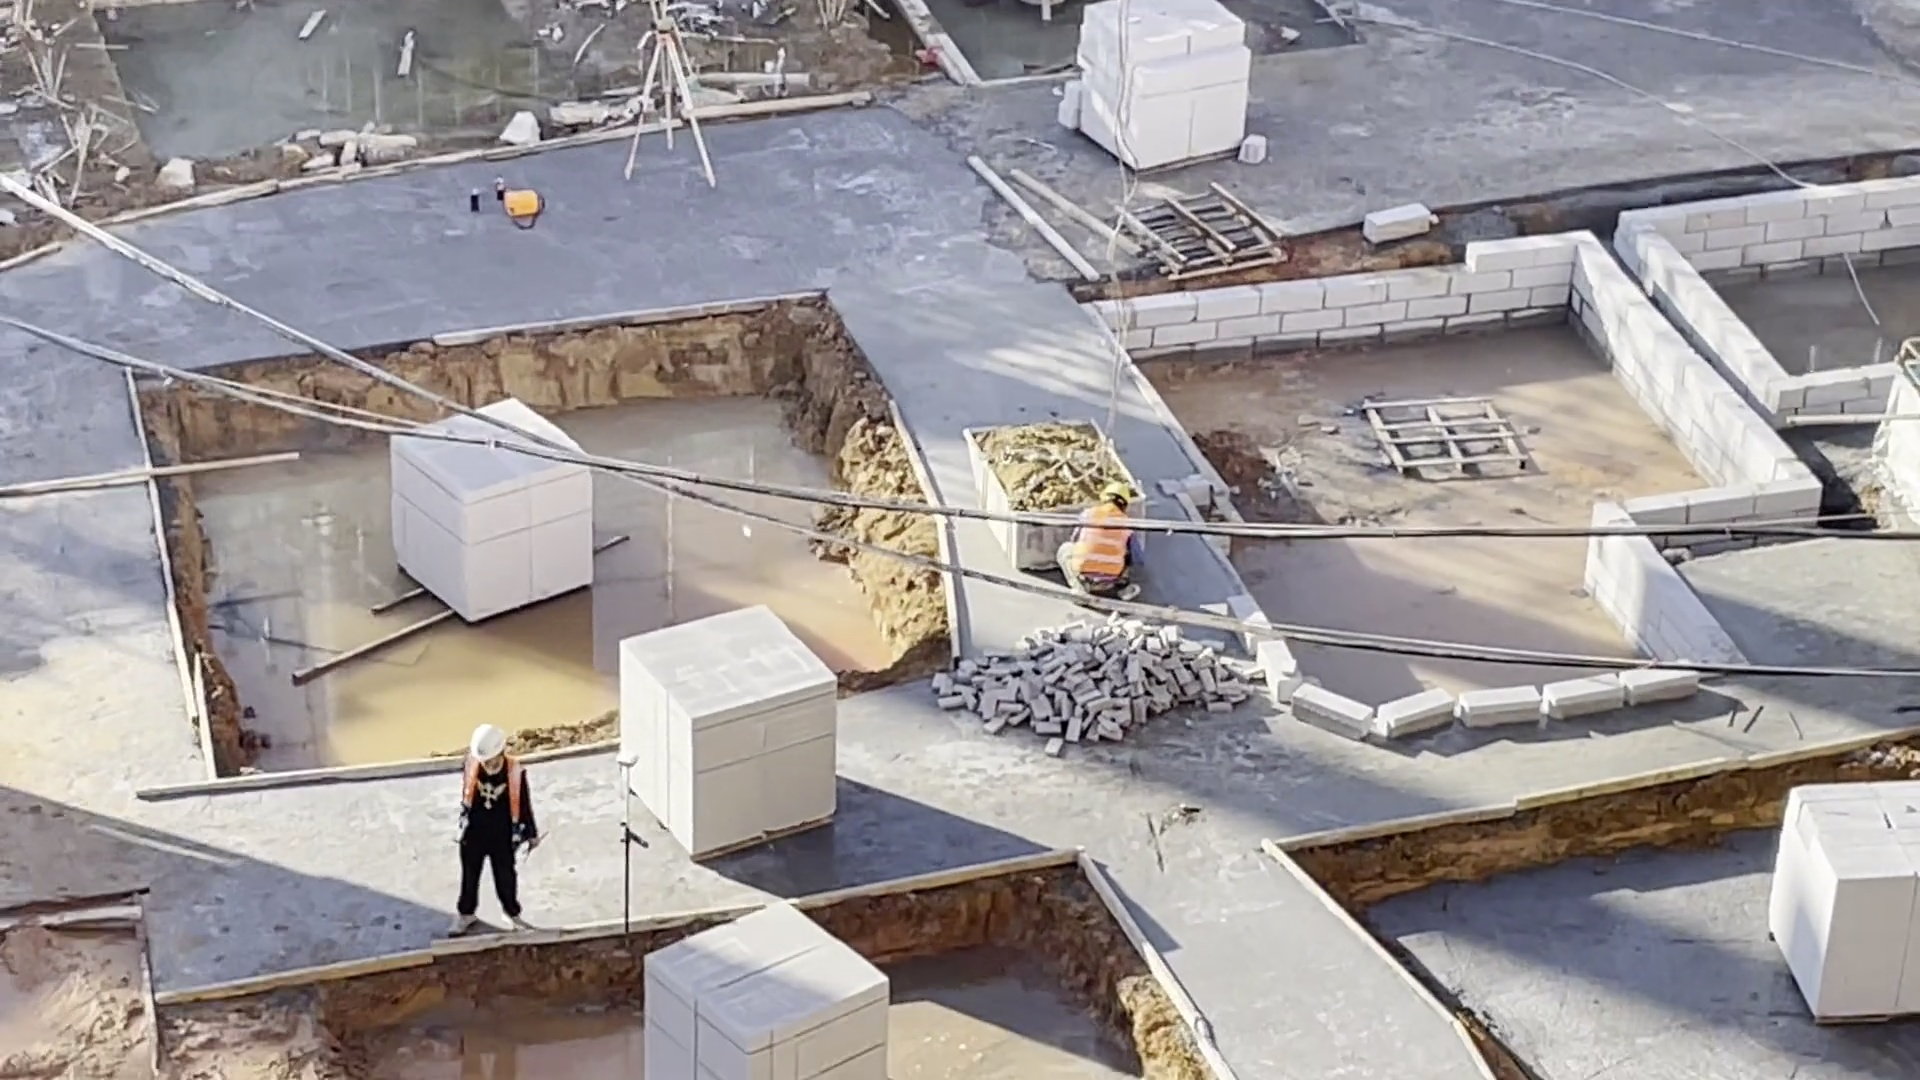brick: (610, 597, 842, 857), (641, 895, 894, 1080), (1758, 769, 1920, 1024), (386, 457, 602, 628), (1053, 9, 1245, 186)
helmet: (463, 724, 510, 762), (1099, 480, 1136, 512)
hopper: (958, 412, 1121, 502)
person: (441, 723, 547, 937), (1052, 481, 1144, 601)
vest: (452, 762, 524, 845), (1058, 528, 1133, 578)
